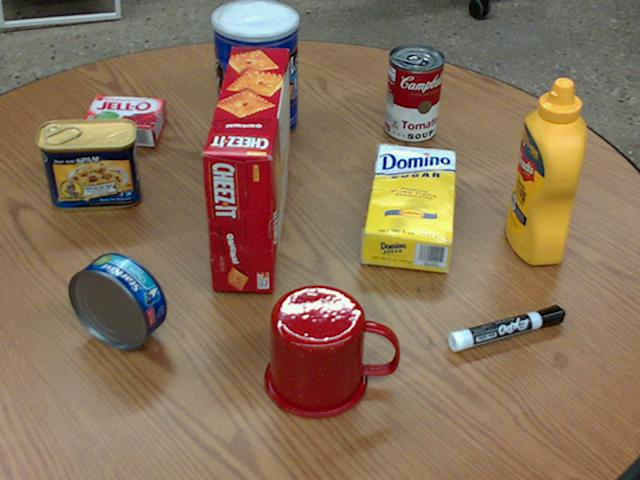cracker_box: (201, 46, 289, 293)
gelatin_box: (78, 94, 164, 144)
large_marker: (448, 305, 564, 351)
master_chef_can: (210, 0, 296, 139)
mug: (265, 284, 398, 418)
mustard_bottle: (505, 79, 585, 264)
potted_meat_can: (36, 117, 140, 208)
sugar_box: (361, 145, 455, 270)
tomato_soup_can: (383, 44, 444, 142)
tuna_fish_can: (69, 253, 167, 349)
